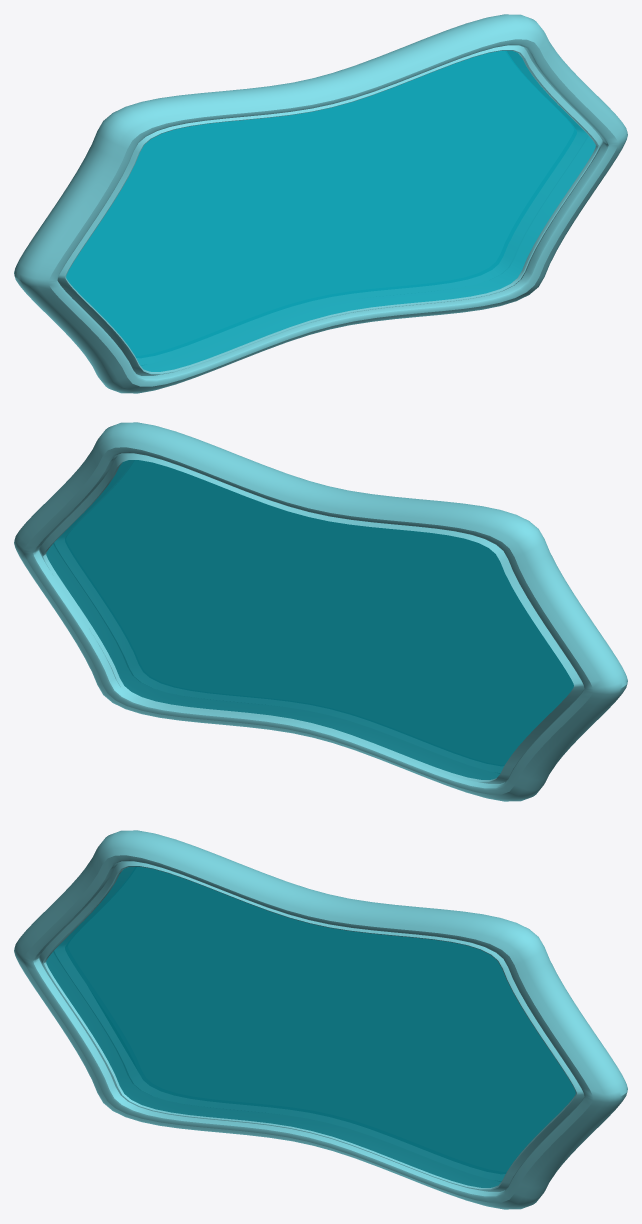
The model's file is normal.fbx.
3 views of the same model, one above another, from view 1: azimuth 30°, elevation 25°; view 2: azimuth 150°, elevation 25°; view 3: azimuth 330°, elevation 25° (orthographic).
Parts seen in each view (by area): view 1: BezierCircle; view 2: BezierCircle; view 3: BezierCircle.
Boxes of the visible parts, bbox=[...] form: BezierCircle: bbox=[14, 14, 627, 393]; BezierCircle: bbox=[14, 422, 627, 801]; BezierCircle: bbox=[14, 830, 627, 1209].
Bounding box in the file's own units: 376 × 168 × 26.61.
